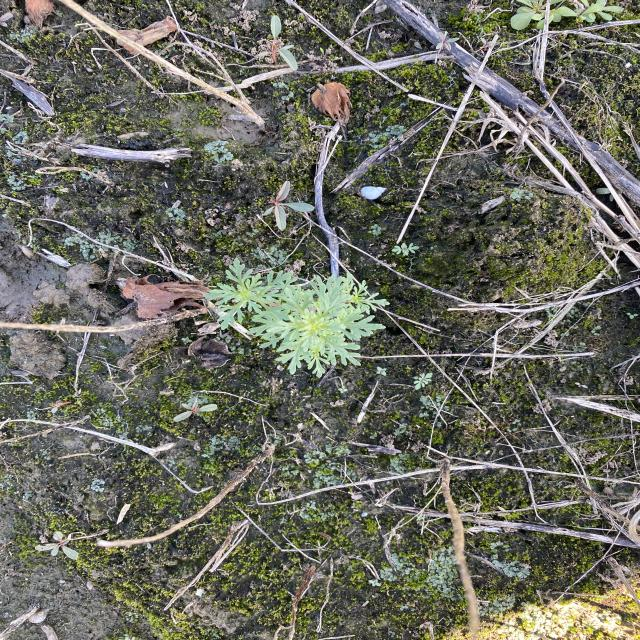Carpetweed: (508, 0, 628, 33)
Ragweed: (200, 255, 393, 379)
Waterhemp: (257, 178, 317, 234)
